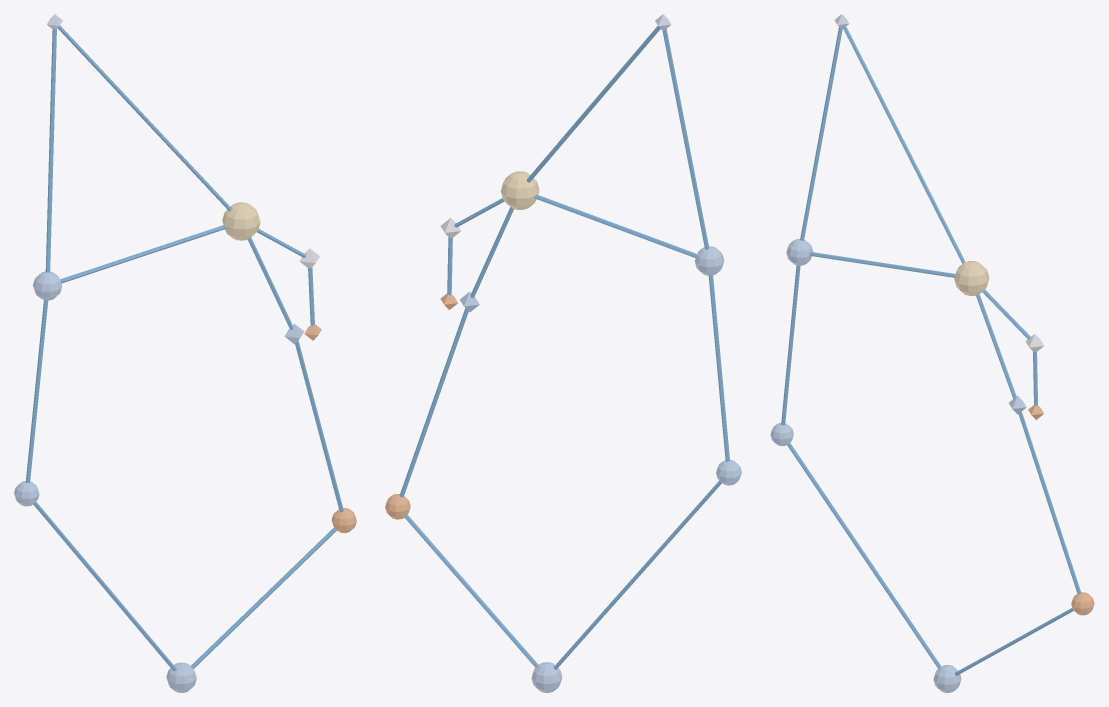
File: constellation-aur.glb
The picture shows the model from 3 angles, left to right: view 1: azimuth 30°, elevation 25°; view 2: azimuth 150°, elevation 25°; view 3: azimuth 330°, elevation 25°; orthographic projection. The views are drawn at different scales.
Bounding box in the file's own units: 1.43 × 2.78 × 0.2621.
